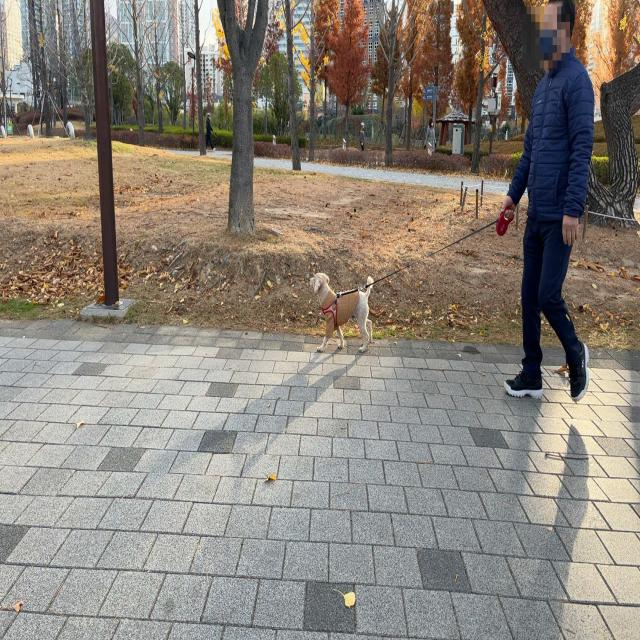Leashed_Dog: (308, 197, 542, 354)
